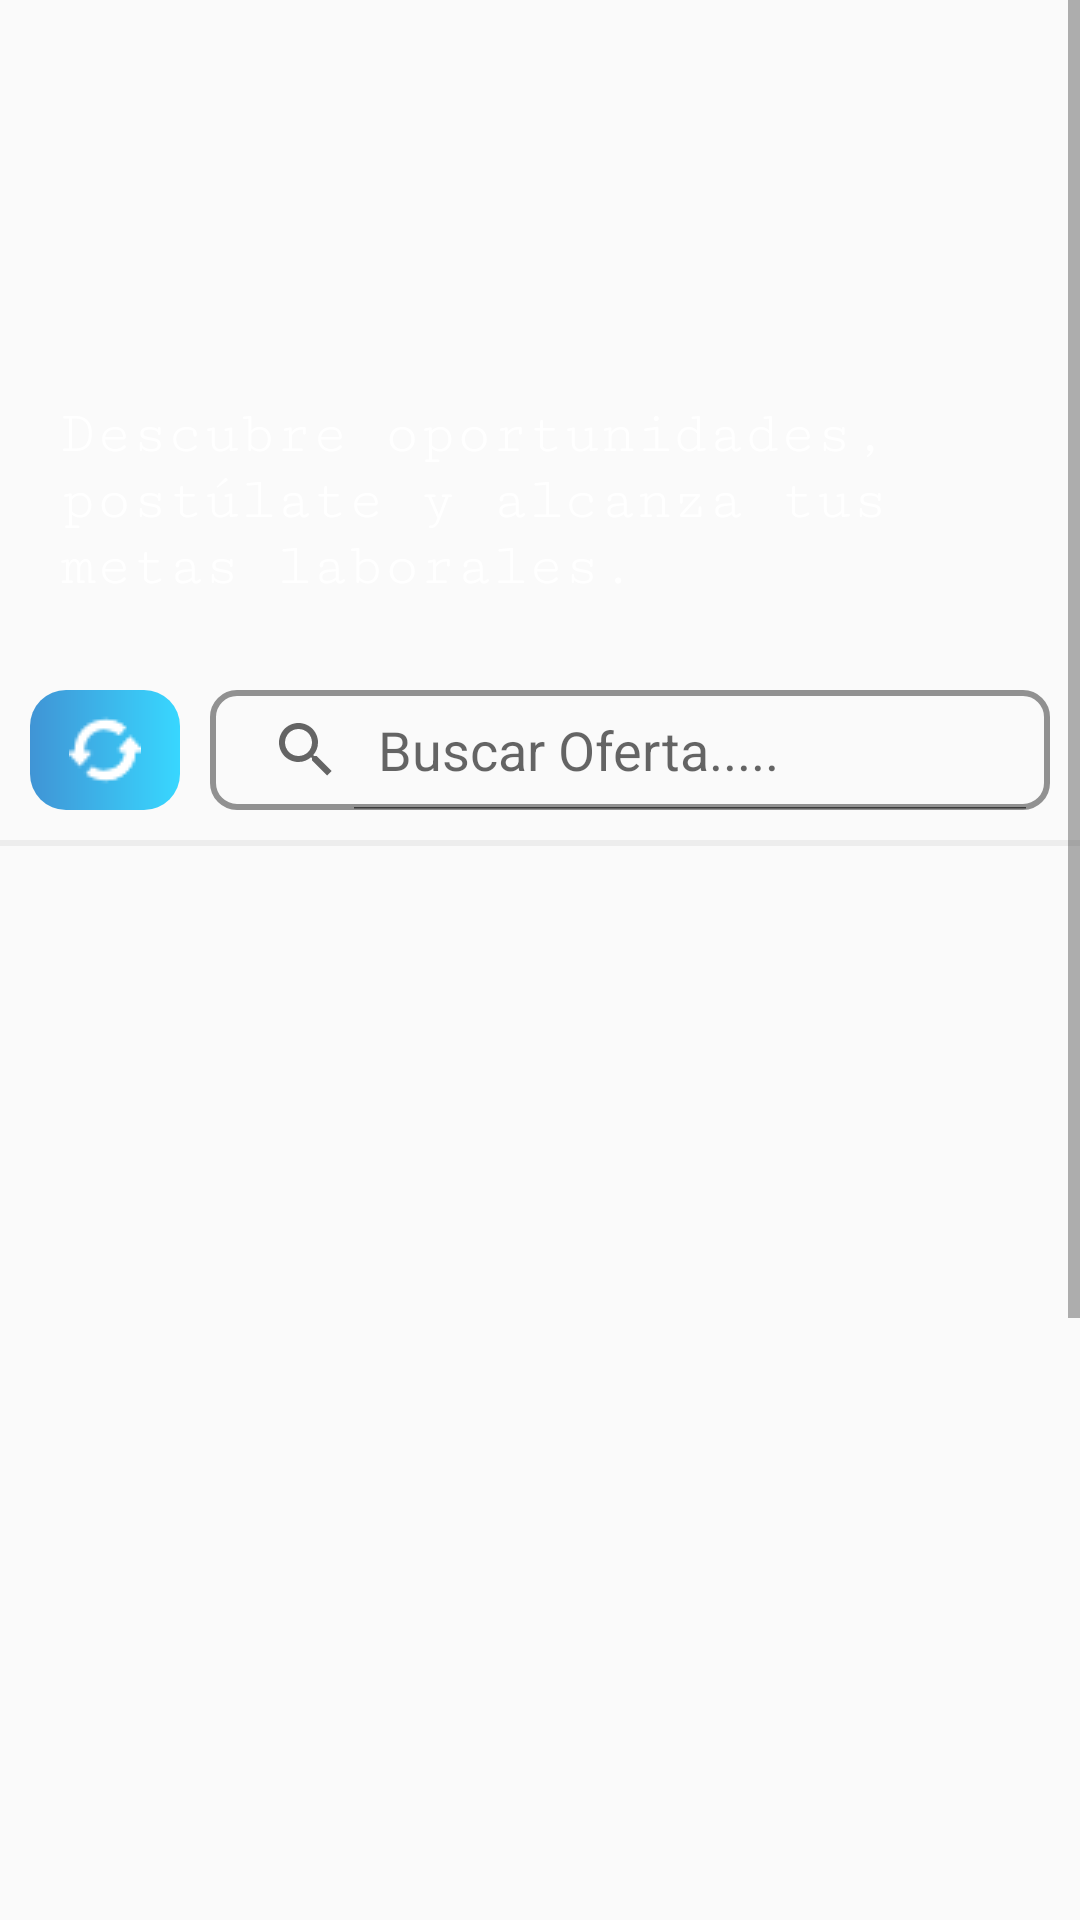

Locate icon controls on the screen. Image size 1080×1920, boxes as detection(x1, y1, x2, y2).
actualizar: detection(30, 690, 180, 810)
